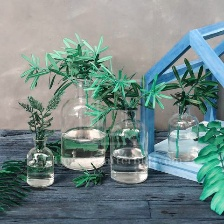bottle: (60, 78, 107, 171), (107, 102, 150, 186), (164, 100, 203, 164), (24, 135, 54, 188)
